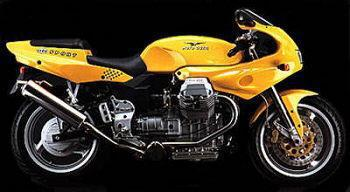motorcycle: (1, 4, 350, 187)
